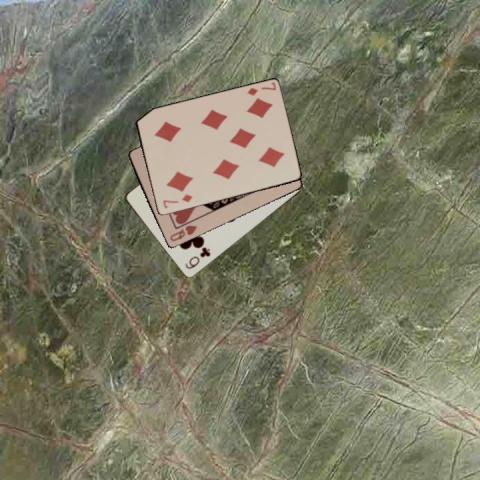6c: (182, 244, 212, 270)
7d: (160, 191, 193, 210), (244, 80, 277, 98)
Qh: (166, 223, 198, 243)
